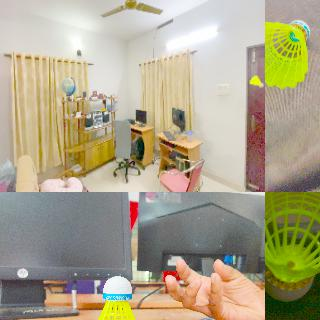shuttlecock: (265, 192, 319, 298), (265, 19, 310, 89), (80, 275, 151, 319), (249, 75, 263, 87)
